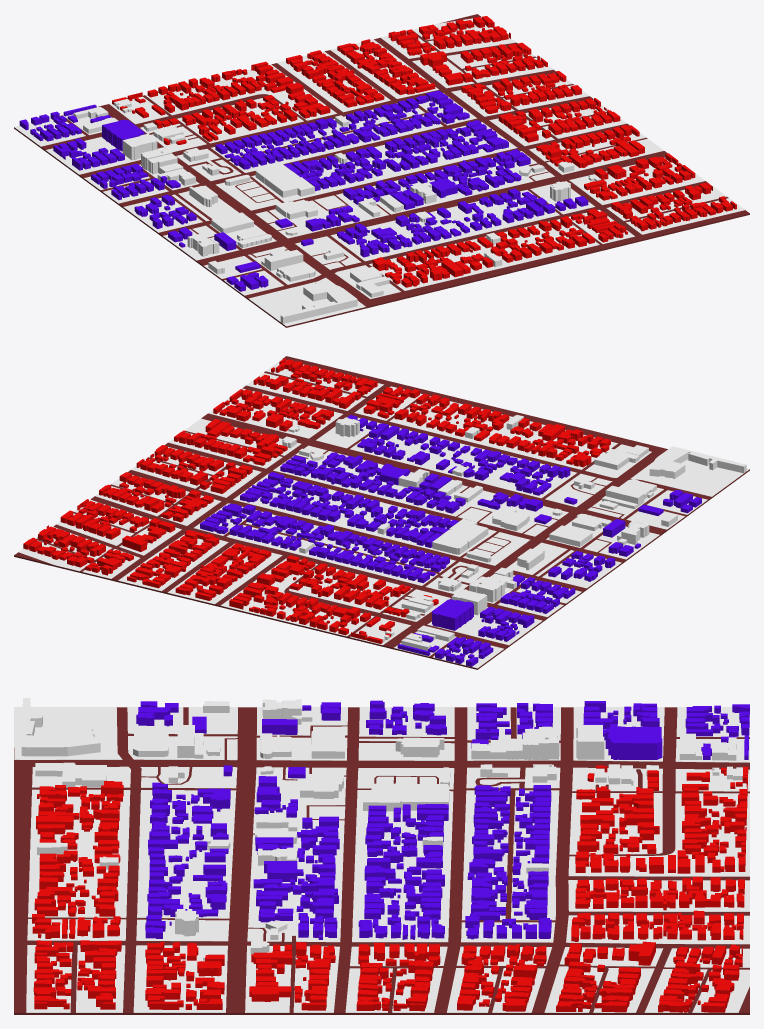
The model's file is kky.gltf.
3 views of the same model, one above another, from view 1: azimuth 30°, elevation 25°; view 2: azimuth 150°, elevation 25°; view 3: azimuth 270°, elevation 25° (orthographic). The views are drawn at different scales.
Visible parts, largest first — view 1: object 1, object 1088, object 1098, object 1099, object 1090, object 1111, 408300703, object 1126, object 1076, 407362650, object 1125, object 1106 (+19 smaller); view 2: object 1, object 1088, object 1098, object 1090, object 1099, object 1111, 408300703, object 1126, 407362650, object 1076, object 1107, object 1125 (+18 smaller); view 3: object 1, object 1099, object 1088, object 1098, object 1090, object 1126, object 1111, object 1076, 408300703, object 1107, object 1125, object 1109 (+54 smaller).
Boxes of the visible parts, box(x1,y1,x2,y2) form: object 1: box(14, 14, 749, 327); object 1088: box(330, 190, 559, 261); object 1098: box(269, 151, 548, 238); object 1099: box(251, 122, 517, 202); object 1090: box(369, 219, 599, 290); object 1111: box(248, 277, 365, 326); 408300703: box(280, 279, 357, 323); object 1126: box(145, 64, 337, 120); object 1076: box(569, 157, 705, 205); 407362650: box(255, 164, 314, 197); object 1125: box(177, 98, 303, 143); object 1106: box(229, 115, 443, 172); object 1: box(14, 356, 749, 669); object 1088: box(350, 425, 576, 498); object 1098: box(273, 451, 568, 533); object 1090: box(389, 396, 617, 469); object 1099: box(233, 473, 496, 556); object 1111: box(630, 459, 749, 496); 408300703: box(649, 446, 746, 478); object 1126: box(220, 558, 374, 636); 407362650: box(432, 518, 488, 554); object 1076: box(208, 388, 342, 438); object 1107: box(226, 525, 437, 585); object 1125: box(289, 567, 412, 612); object 1: box(14, 707, 749, 1014); object 1099: box(352, 790, 453, 942); object 1088: box(137, 790, 236, 918); object 1098: box(248, 767, 346, 942); object 1090: box(28, 789, 130, 917); object 1126: box(568, 793, 749, 876); object 1111: box(14, 707, 122, 759); object 1076: box(133, 945, 227, 1012); 408300703: box(21, 698, 100, 756); object 1107: box(511, 790, 559, 920); object 1125: box(569, 793, 662, 854); object 1109: box(568, 880, 749, 911).
Bounding box in the file's own units: 683 × 20.9 × 695.
